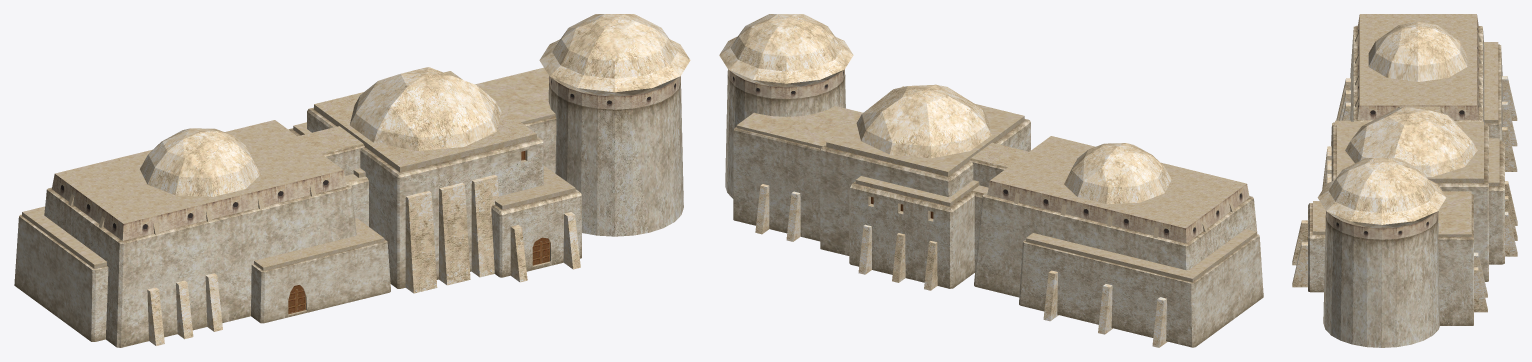
The model's file is thm_tato_block_bldg_64x32_s01_l1.fbx.
The picture shows the model from 3 angles, left to right: view 1: azimuth 30°, elevation 25°; view 2: azimuth 150°, elevation 25°; view 3: azimuth 270°, elevation 25°; orthographic projection. The views are drawn at different scales.
Parts seen in each view (by area): view 1: mesh_node; view 2: mesh_node; view 3: mesh_node.
Part boxes in pixels (bbox=[...]): mesh_node: bbox=[14, 14, 690, 347]; mesh_node: bbox=[719, 14, 1263, 347]; mesh_node: bbox=[1292, 14, 1517, 347].
Size of the model in its own units: 68.1 by 20.84 by 26.2.
